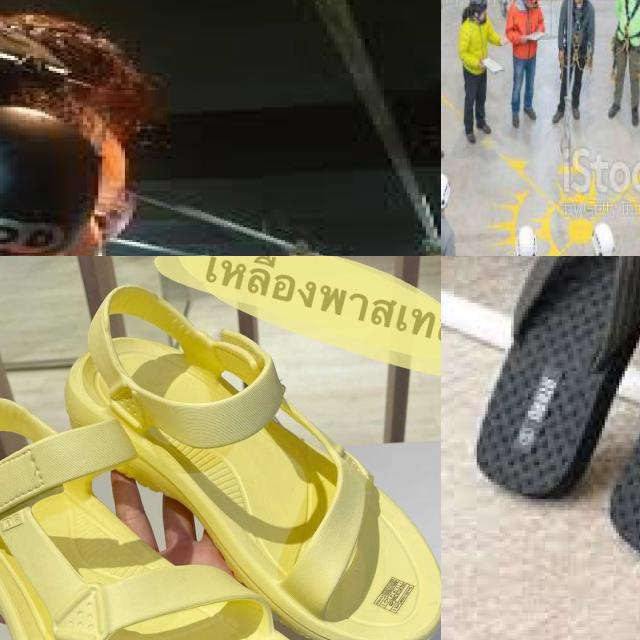Ear-protection: (0, 98, 102, 256)
Harness: (558, 0, 593, 73), (609, 0, 640, 68)
Sandals: (0, 272, 441, 640), (441, 256, 640, 599)
